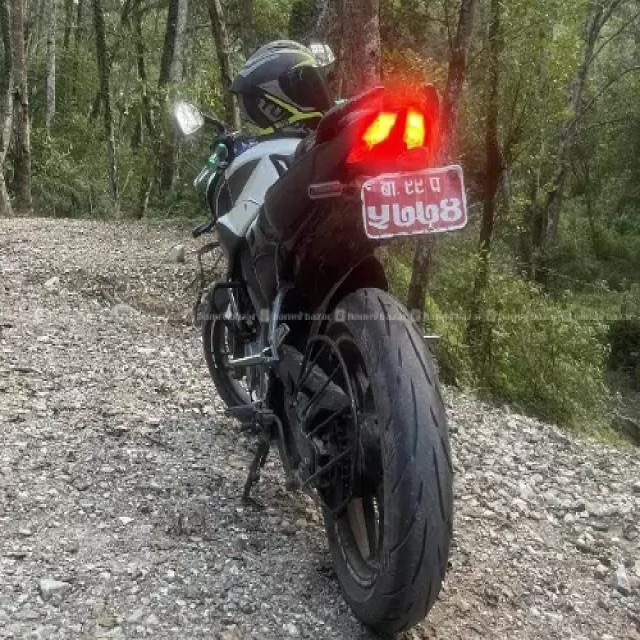License-plate: (356, 165, 476, 240)
